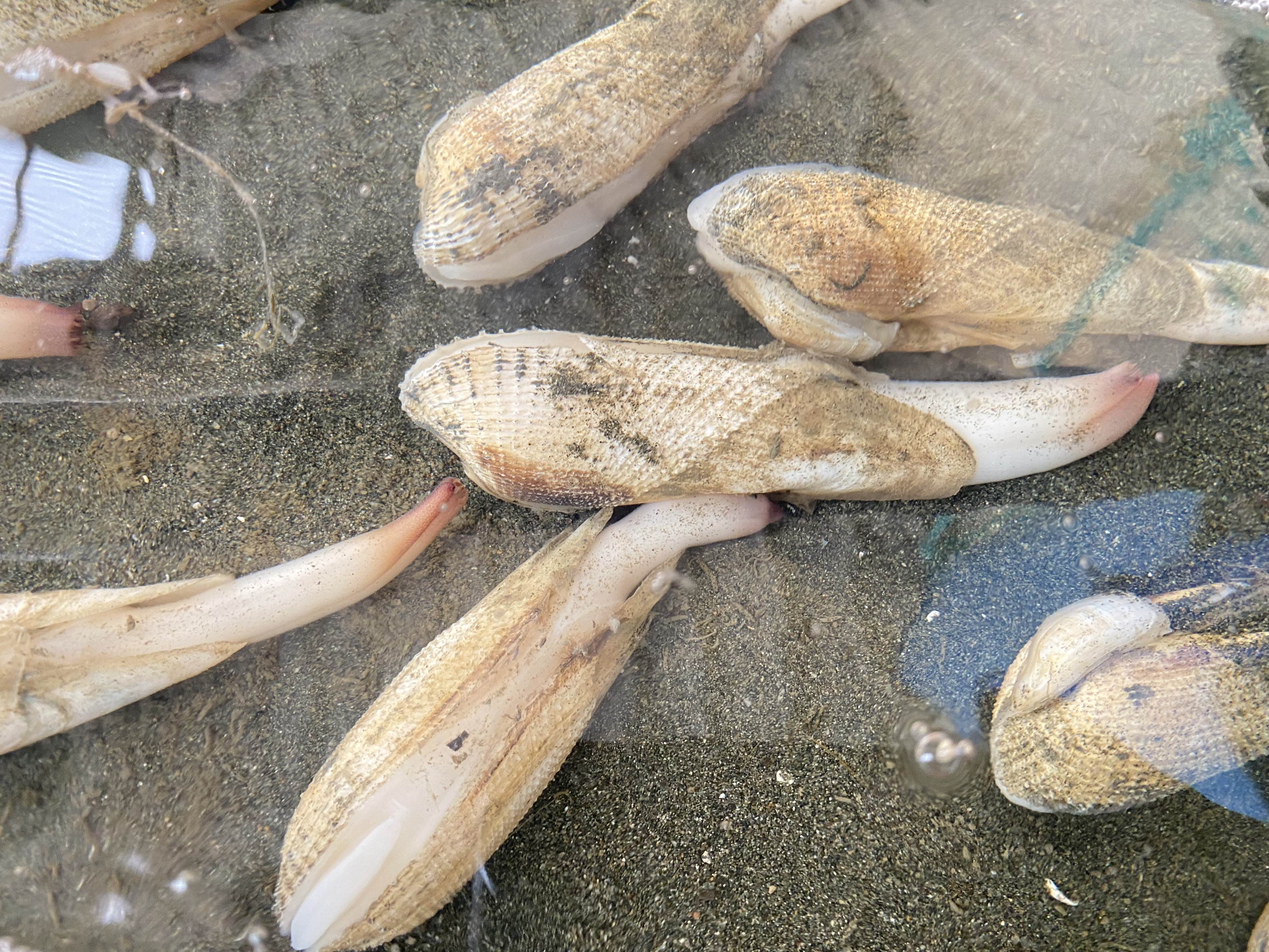Healthy: (276, 494, 781, 952), (401, 330, 1150, 509), (0, 479, 466, 752), (488, 632, 517, 760), (382, 566, 384, 567)
